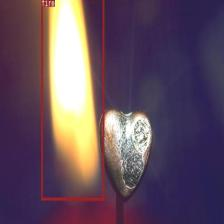fire: (41, 0, 104, 200)
